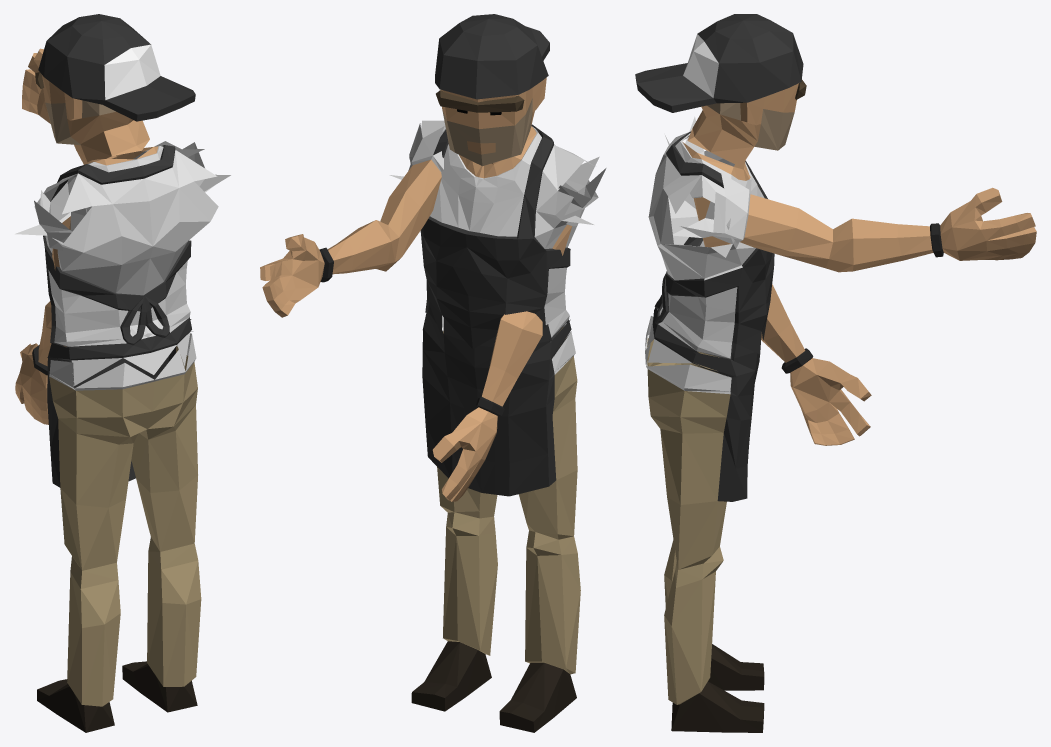
File: Cop_watches.obj
3 views of the same model, side by side, from view 1: azimuth 30°, elevation 25°; view 2: azimuth 150°, elevation 25°; view 3: azimuth 270°, elevation 25° (orthographic). The views are drawn at different scales.
Parts seen in each view (by area): view 1: Cop_watches; view 2: Cop_watches; view 3: Cop_watches.
Part boxes in pixels (x1=…): Cop_watches: x1=15, y1=14, x2=230, y2=732; Cop_watches: x1=260, y1=14, x2=606, y2=732; Cop_watches: x1=635, y1=14, x2=1036, y2=732.
Size of the model in its own units: 0.5658 by 1.81 by 0.9689.
Materials: 1 (1 with a texture image).
